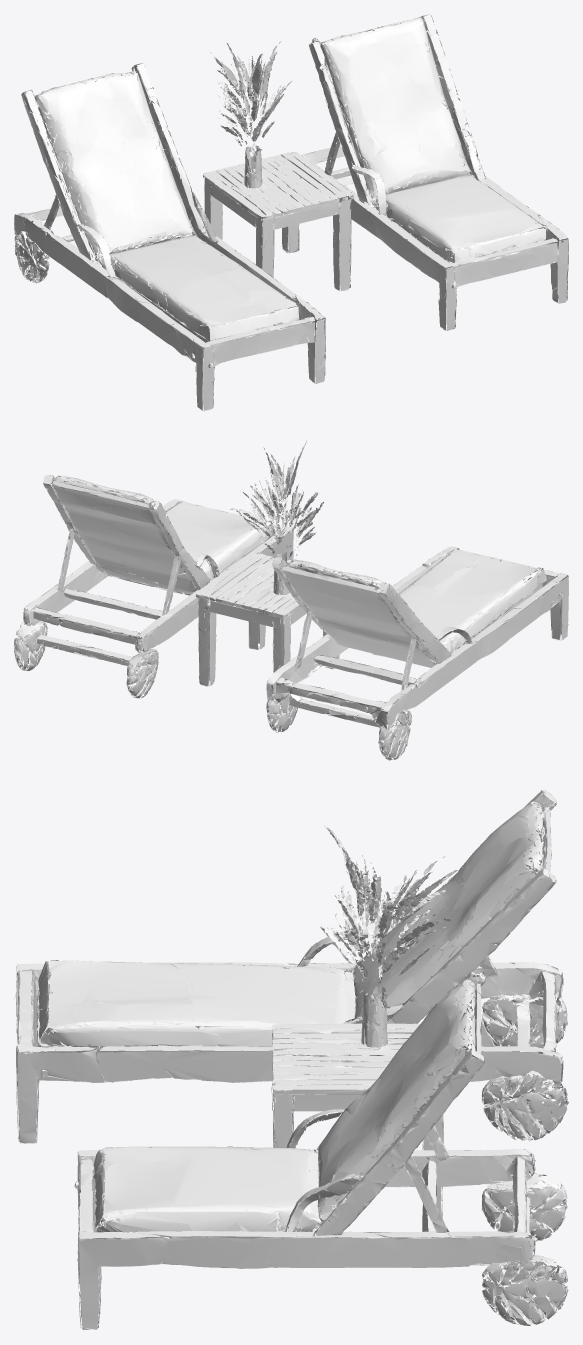
Rendered from beach-sun-lounger.glb.
The picture shows the model from 3 angles, top to bottom: view 1: azimuth 30°, elevation 25°; view 2: azimuth 150°, elevation 25°; view 3: azimuth 270°, elevation 25°; orthographic projection. The views are drawn at different scales.
Parts seen in each view (by area): view 1: model; view 2: model; view 3: model.
Boxes of the visible parts, left/top/right/bottom form: model: left=14, top=14, right=568, bottom=411; model: left=14, top=441, right=568, bottom=760; model: left=14, top=789, right=568, bottom=1330.
Bounding box in the file's own units: 1.9 × 1.1 × 1.59.
Materials: 1 (1 with a texture image).
